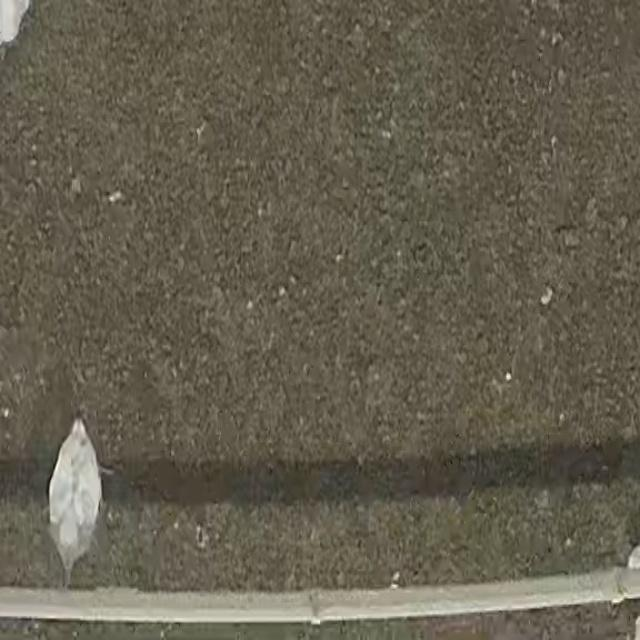chicken: (44, 409, 118, 582)
